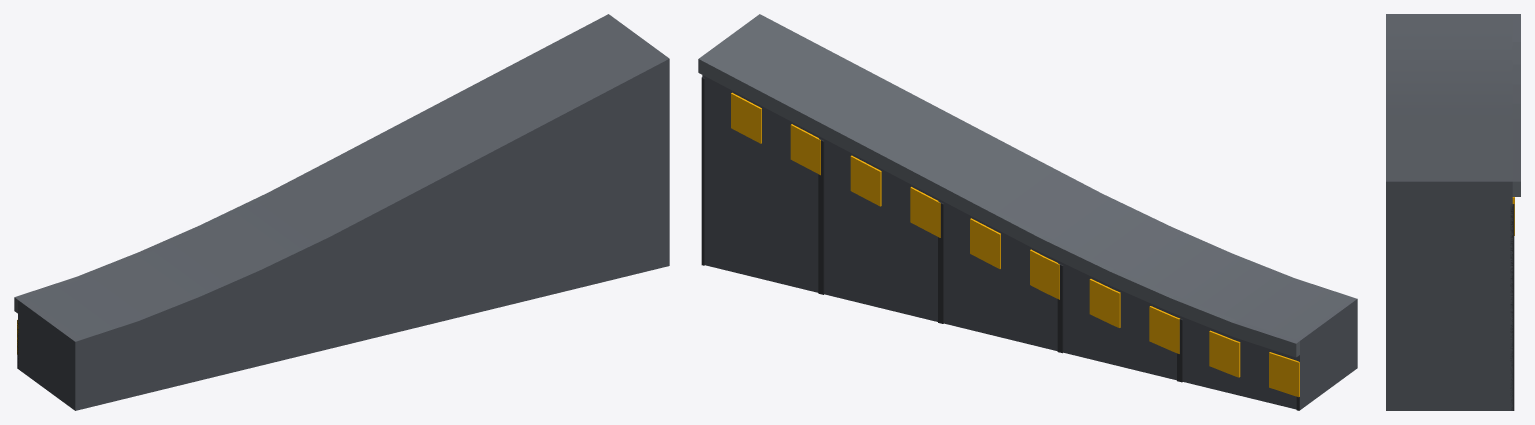
3 renders of one model, left to right at view 1: azimuth 30°, elevation 25°; view 2: azimuth 150°, elevation 25°; view 3: azimuth 270°, elevation 25°, orthographic. The views are drawn at different scales.
Visible parts, largest first — view 1: d1w; view 2: d1w; view 3: d1w.
Part boxes in pixels (left/top/right/bottom): d1w: left=14, top=14, right=669, bottom=410; d1w: left=698, top=14, right=1357, bottom=410; d1w: left=1386, top=14, right=1520, bottom=410.
Bounding box in the file's own units: 9 × 3 × 1.6.
